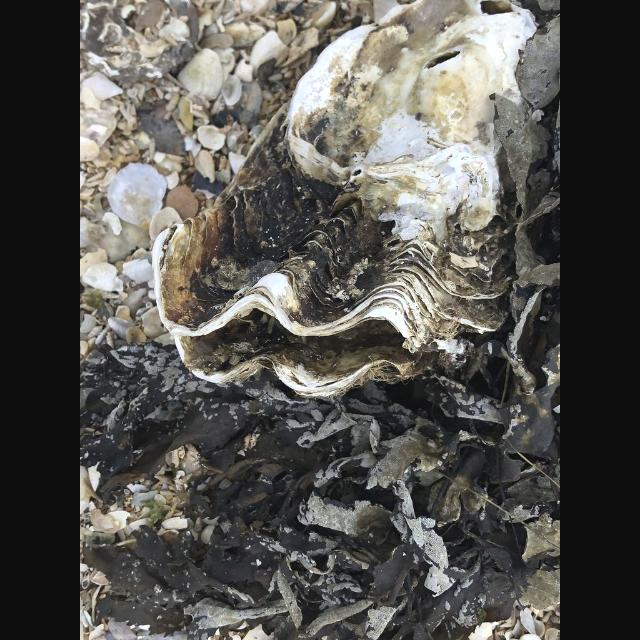Oyster-Open: (150, 0, 536, 400)
